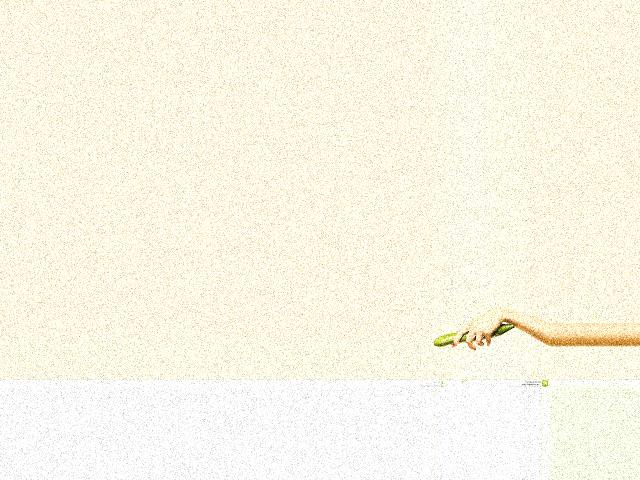cucumber: (433, 324, 515, 347)
